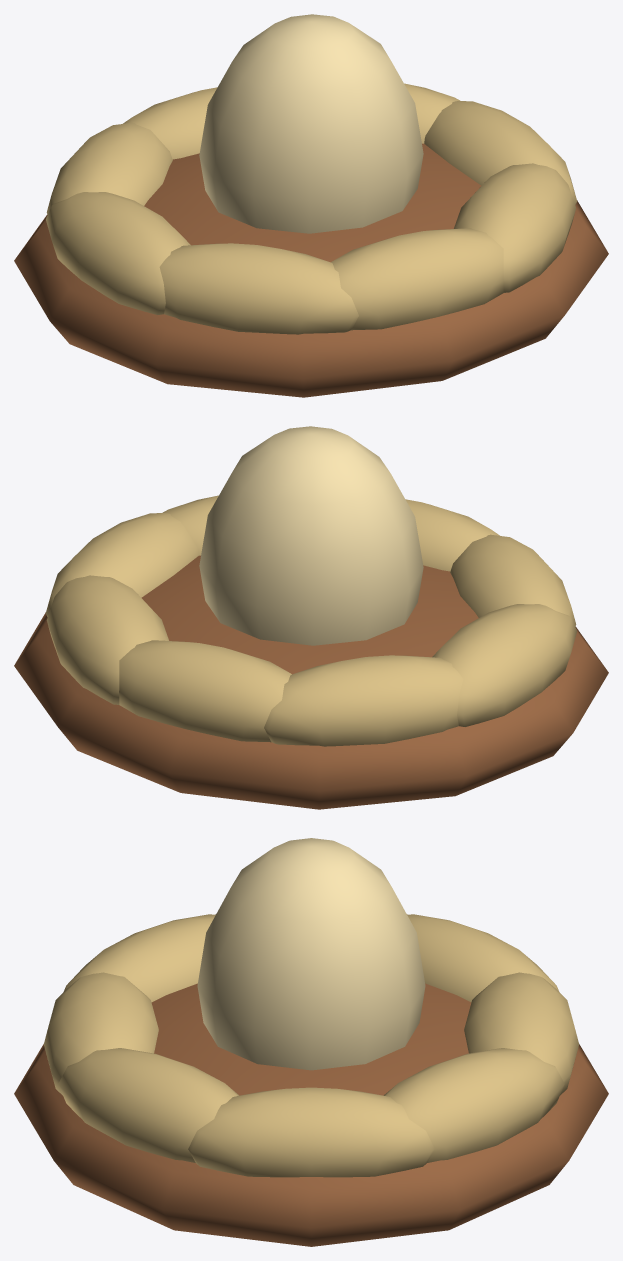
The model's file is DW_Nest.fbx.
The picture shows the model from 3 angles, top to bottom: view 1: azimuth 30°, elevation 25°; view 2: azimuth 150°, elevation 25°; view 3: azimuth 270°, elevation 25°; orthographic projection. The views are drawn at different scales.
Visible parts, largest first — view 1: Nest; view 2: Nest; view 3: Nest.
Boxes of the visible parts, x1,y1,x2,y2 form: Nest: [14, 14, 608, 397]; Nest: [14, 426, 608, 809]; Nest: [14, 838, 608, 1246].
Bounding box in the file's own units: 1.28 × 0.72 × 1.2.
